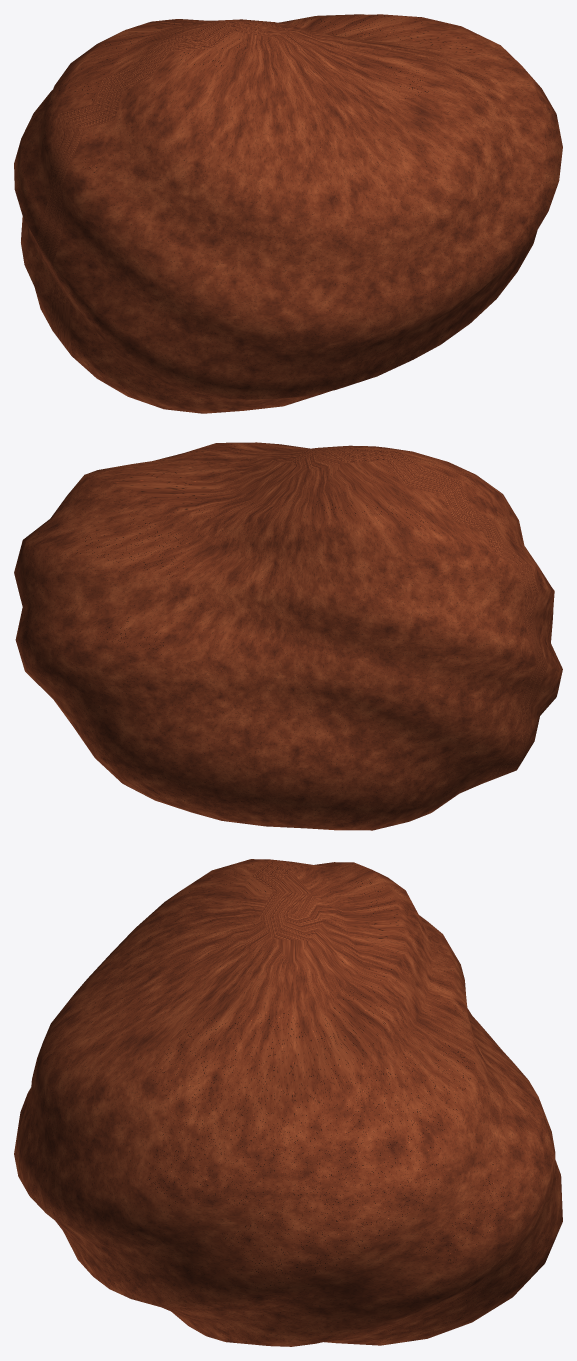
File: obstacle_big_3.dae
3 renders of one model, top to bottom at view 1: azimuth 30°, elevation 25°; view 2: azimuth 150°, elevation 25°; view 3: azimuth 270°, elevation 25°, orthographic. The views are drawn at different scales.
Parts seen in each view (by area): view 1: obstacle_big_3; view 2: obstacle_big_3; view 3: obstacle_big_3.
Boxes of the visible parts, x1,y1,x2,y2 form: obstacle_big_3: [14, 14, 562, 413]; obstacle_big_3: [14, 442, 562, 830]; obstacle_big_3: [14, 859, 562, 1346].
Size of the model in its own units: 1 by 0.8494 by 0.6411.
Materials: 1 (1 with a texture image).
